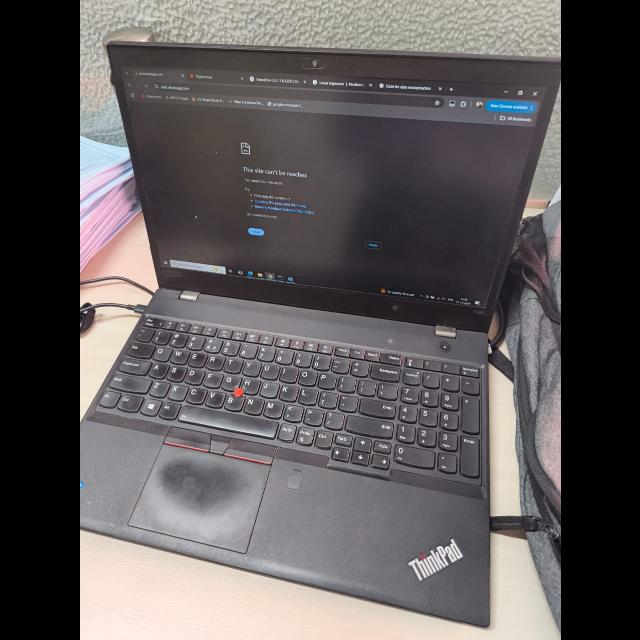laptop: (80, 28, 560, 636)
